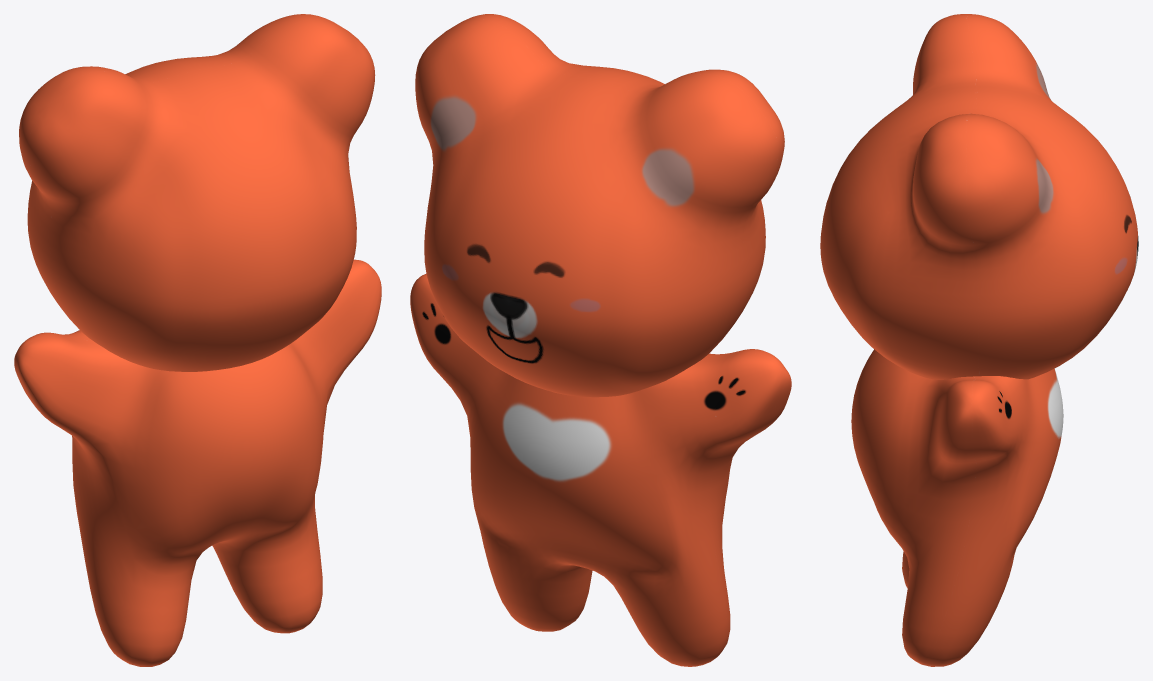
The model's file is happy_chase.fbx.
3 renders of one model, left to right at view 1: azimuth 30°, elevation 25°; view 2: azimuth 150°, elevation 25°; view 3: azimuth 270°, elevation 25°, orthographic. The views are drawn at different scales.
Visible parts, largest first — view 1: Roundcube; view 2: Roundcube; view 3: Roundcube.
Part boxes in pixels (x1=…): Roundcube: x1=14, y1=14, x2=381, y2=666; Roundcube: x1=410, y1=14, x2=791, y2=666; Roundcube: x1=820, y1=14, x2=1138, y2=666.
Size of the model in its own units: 238 by 372 by 191.
